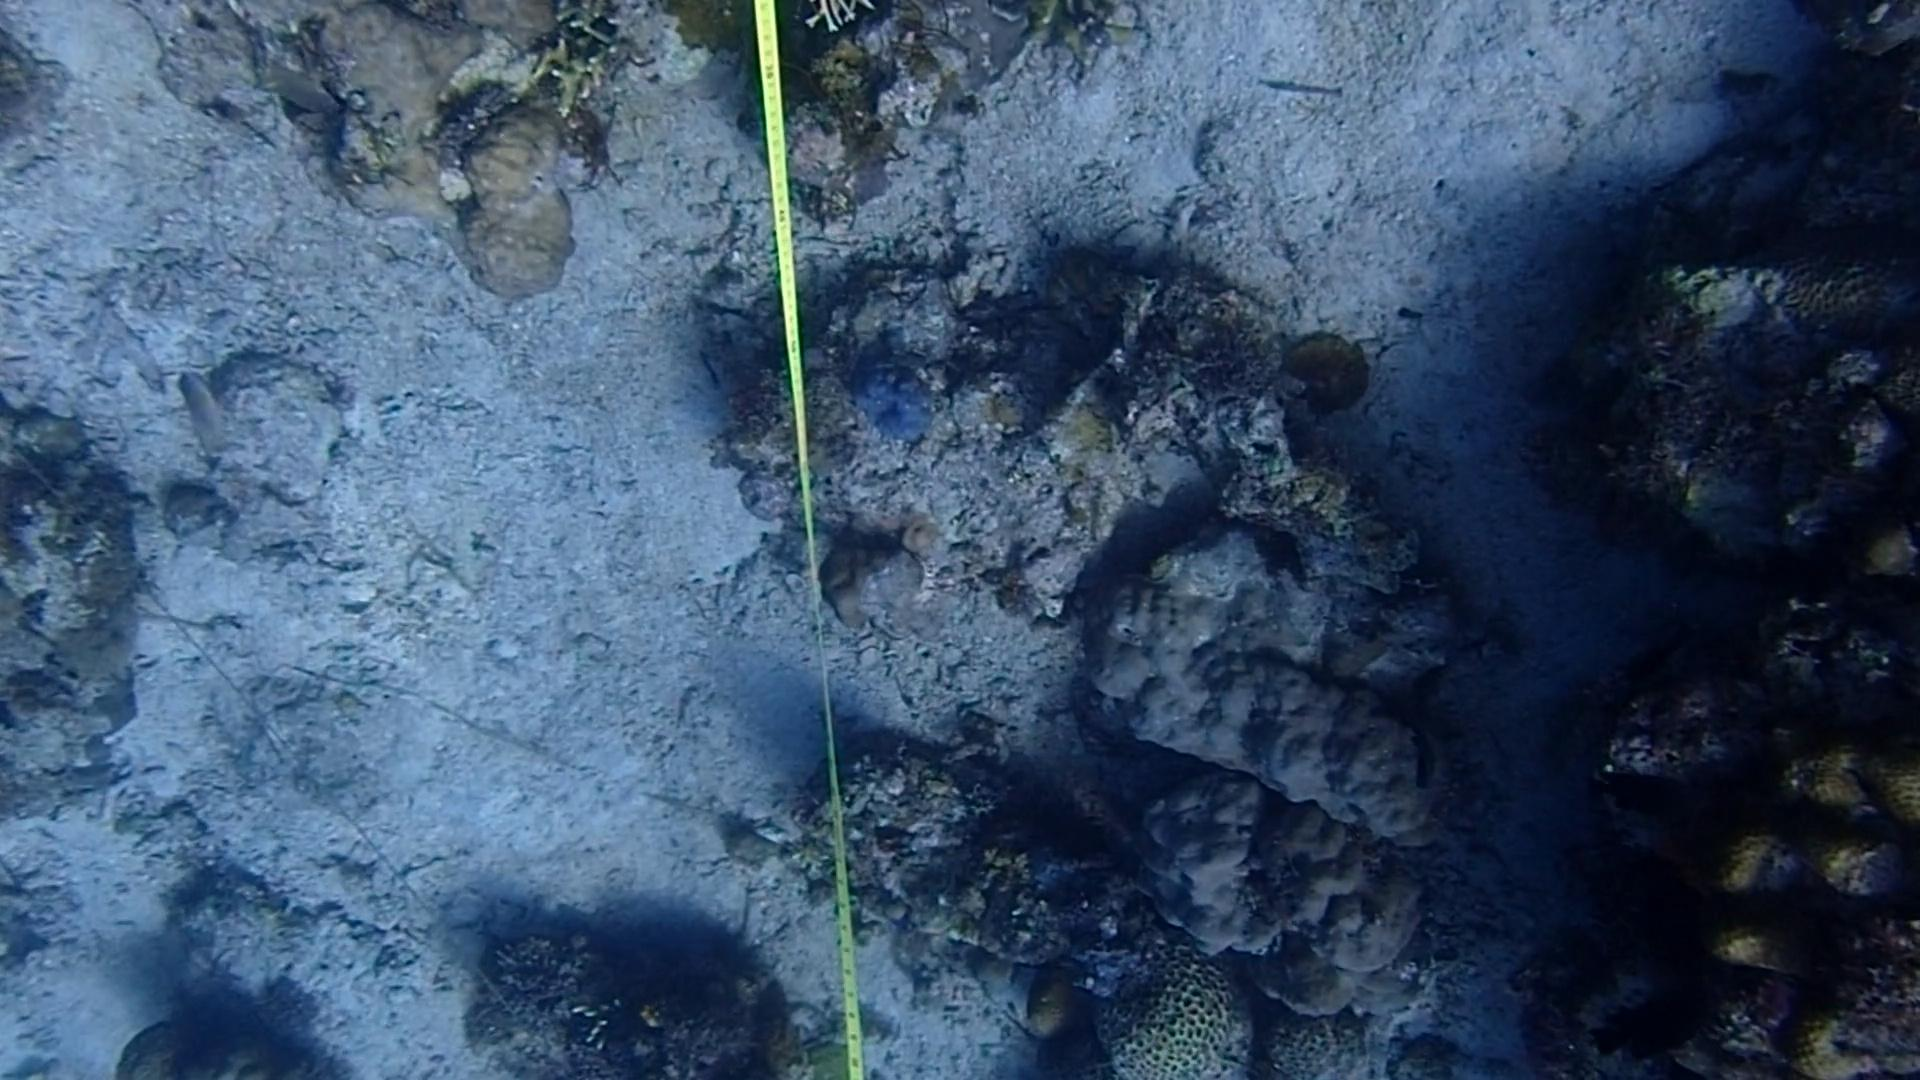Dark Fish: (1568, 975, 1730, 1059), (1596, 744, 1731, 844), (1377, 666, 1465, 787), (1664, 165, 1742, 269)
Light Fish: (156, 356, 237, 459)
